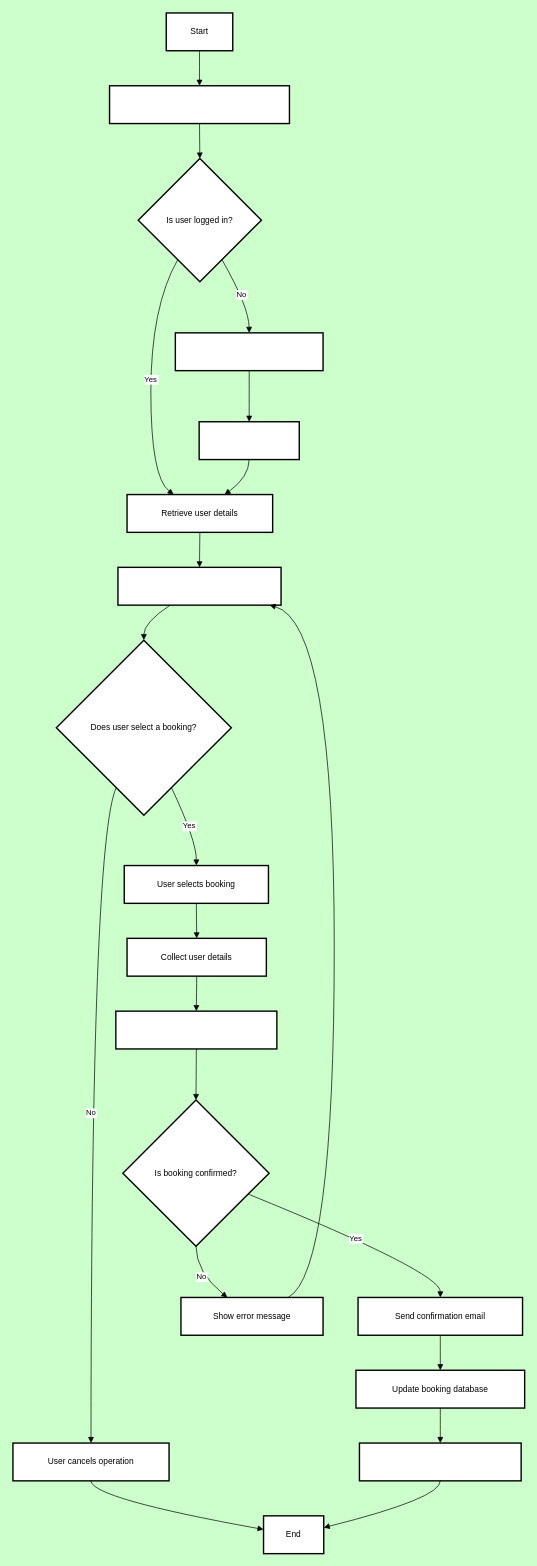
The diagram is 537 pixels wide and 1566 high, and some of its shapes have lost their labels. The shapes that lost their labels are listed below. From the top down, each one's centre as x and y in pixels, then its label:
At [199,104]: "User selects booking option".
At [248,351]: "Prompt user to log in".
At [249,440]: "User logs in".
At [199,586]: "Show available bookings".
At [196,1029]: "Confirm booking details".
At [440,1461]: "Log booking transaction".
